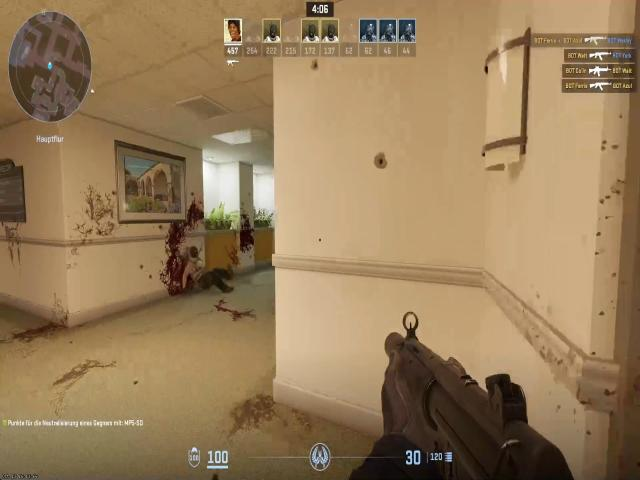Dead: (177, 240, 236, 293)
